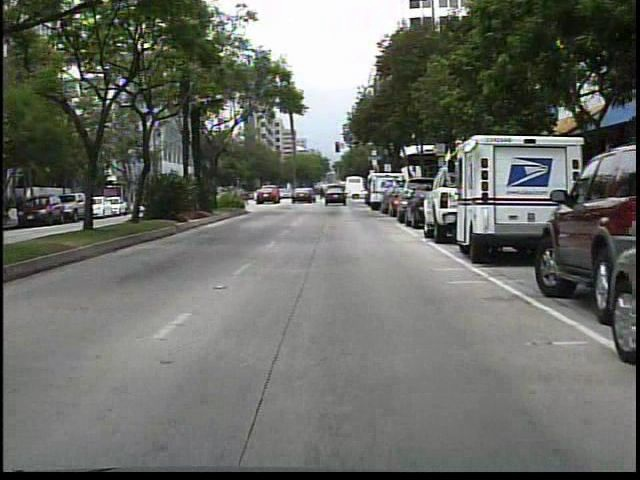person: (295, 182, 311, 206), (319, 183, 327, 203)
